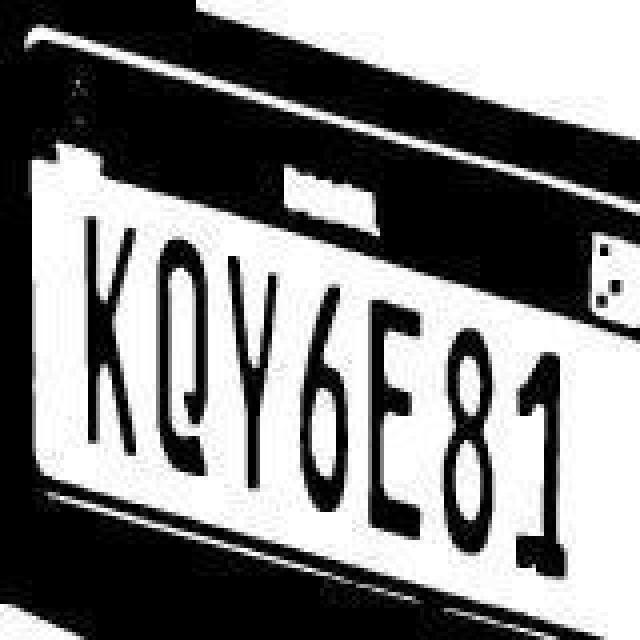1: (512, 324, 592, 604)
6: (296, 254, 360, 546)
8: (444, 298, 500, 582)
E: (362, 272, 438, 560)
K: (74, 208, 150, 456)
Q: (150, 212, 226, 508)
Y: (222, 250, 282, 494)
